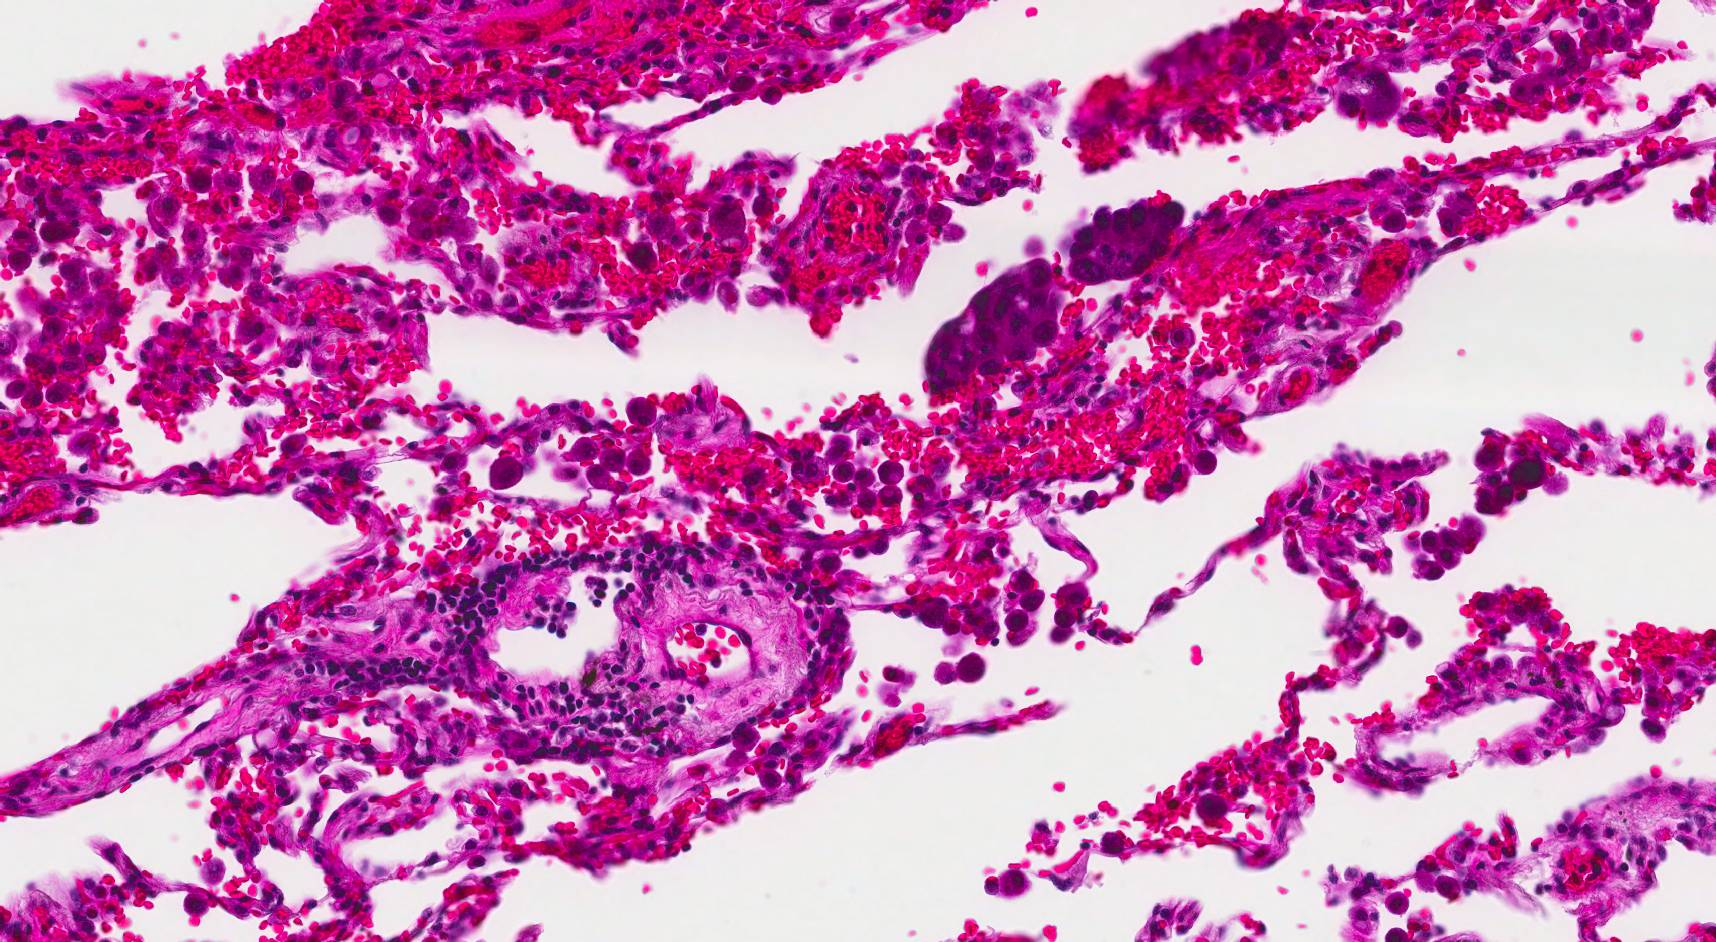stas: (923, 256, 1063, 391), (1066, 193, 1185, 282)
